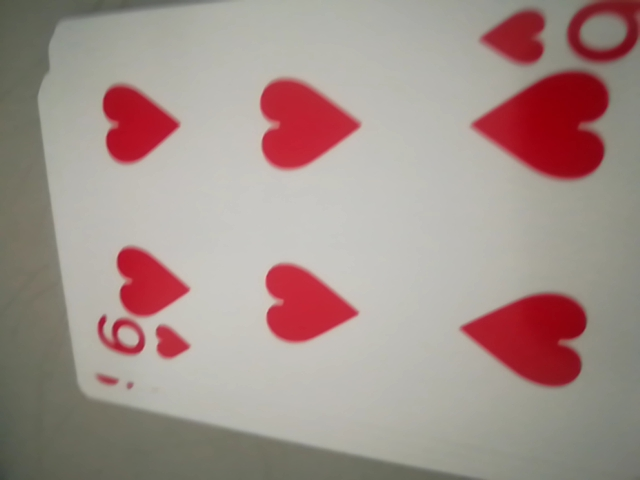hx 6: (89, 312, 201, 363)
